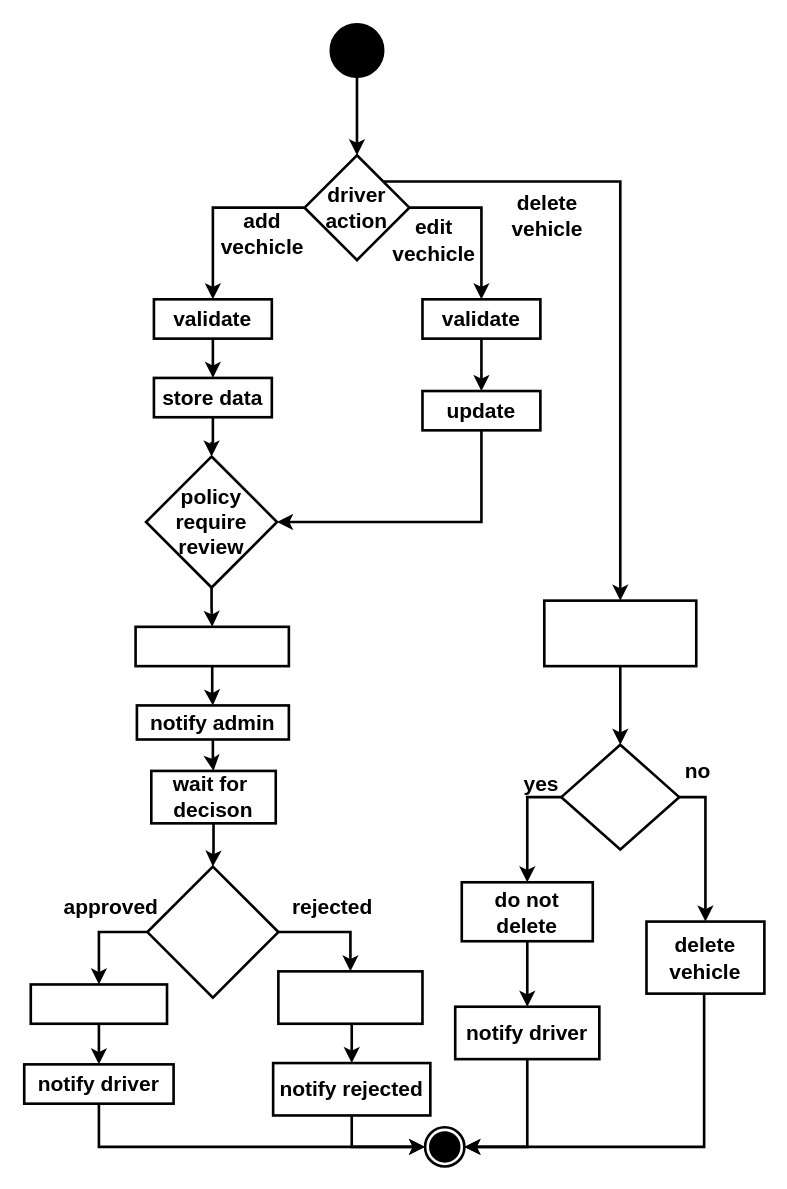
Image size: 787x1189. Some labels were removed from this diagram. The centre of each missing label's shape, as x and y in pixels:
check active ride: pixel 619 633
deciosion: pixel 212 931
is active: pixel 619 796
mark active: pixel 98 1003
mark pending: pixel 212 646
mark rejected: pixel 349 996
